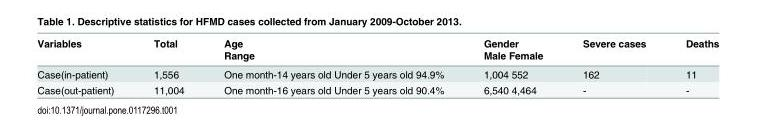table: (36, 36, 718, 95)
table column: (203, 36, 463, 95), (562, 36, 665, 95), (463, 36, 562, 95), (36, 36, 133, 95), (133, 36, 203, 95), (665, 36, 718, 95)
table column header: (36, 36, 718, 64)
table row: (36, 64, 718, 81), (36, 48, 718, 64), (36, 81, 718, 95), (36, 36, 718, 48)
table spanning cell: (203, 36, 463, 64), (562, 36, 665, 64), (463, 36, 562, 64), (36, 36, 133, 64), (133, 36, 203, 64), (665, 36, 718, 64)
